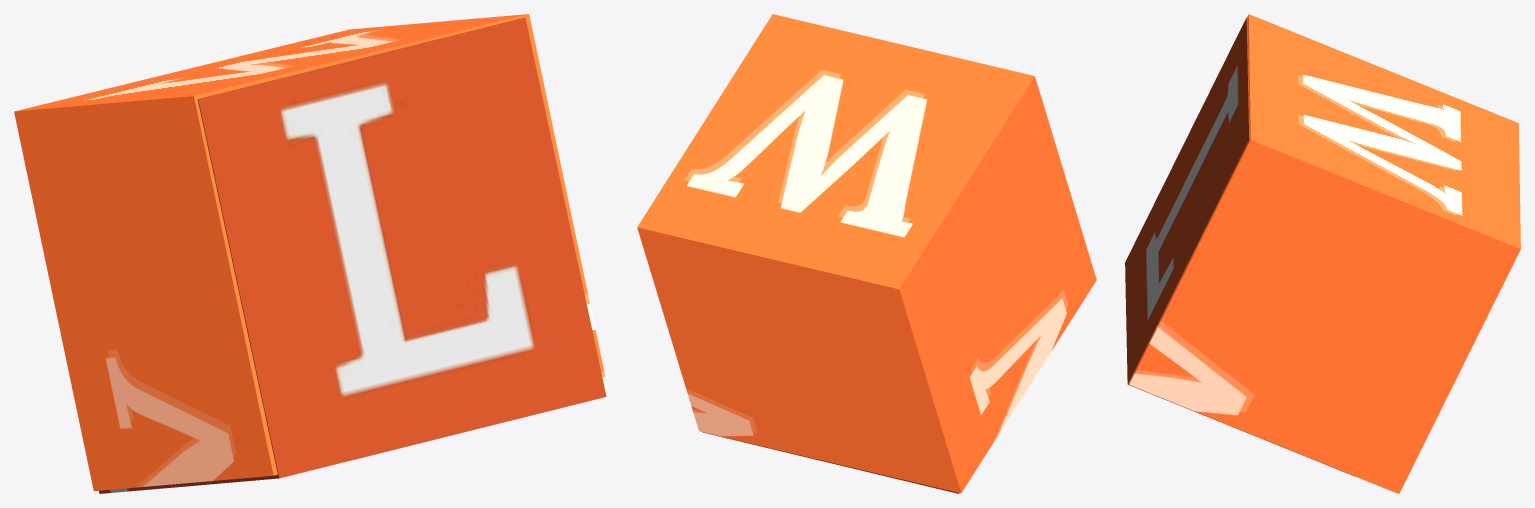
The model's file is Wangara.glb.
3 renders of one model, left to right at view 1: azimuth 30°, elevation 25°; view 2: azimuth 150°, elevation 25°; view 3: azimuth 270°, elevation 25°, orthographic. The views are drawn at different scales.
Parts seen in each view (by area): view 1: Cube; view 2: Cube; view 3: Cube.
Part boxes in pixels (x1=…): Cube: x1=14, y1=14, x2=608, y2=493; Cube: x1=637, y1=14, x2=1096, y2=493; Cube: x1=1125, y1=14, x2=1520, y2=493.
Size of the model in its own units: 1.59 by 2.1 by 2.11.
Materials: 2 (2 with a texture image).
